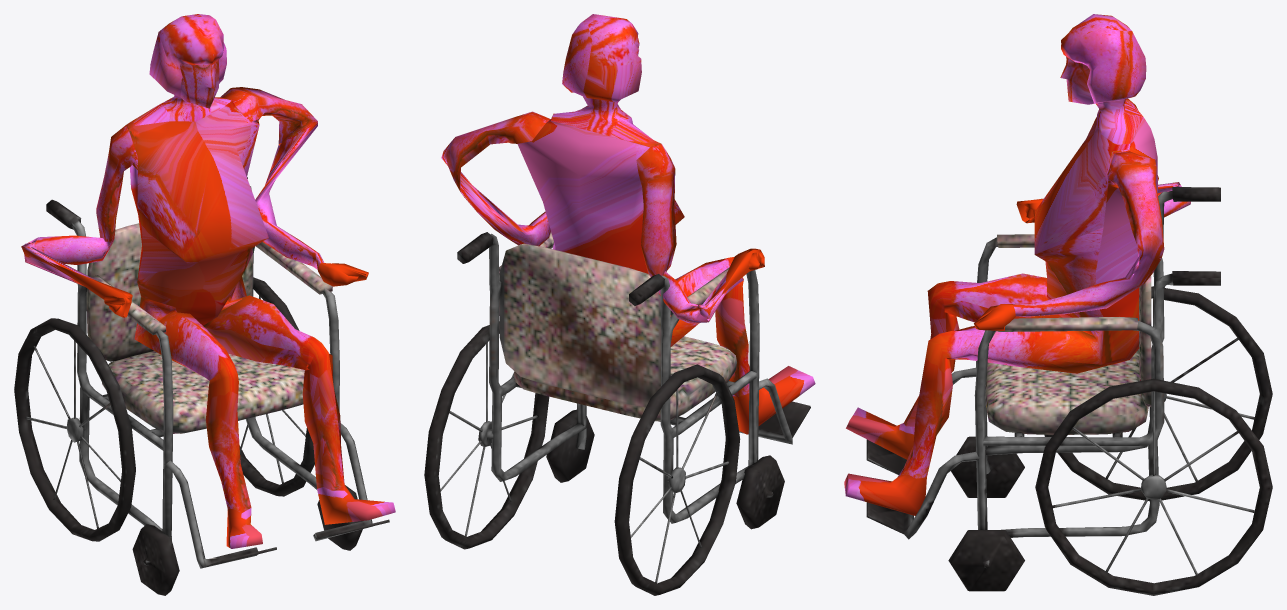
Rendered from Petunia.fbx.
3 views of the same model, side by side, from view 1: azimuth 30°, elevation 25°; view 2: azimuth 150°, elevation 25°; view 3: azimuth 270°, elevation 25° (orthographic). The views are drawn at different scales.
Visible parts, largest first — view 1: wheelchair_Material.007_0; view 2: wheelchair_Material.007_0; view 3: wheelchair_Material.007_0.
Part boxes in pixels (<box>): wheelchair_Material.007_0: <box>14,14,395,595</box>; wheelchair_Material.007_0: <box>424,14,815,595</box>; wheelchair_Material.007_0: <box>844,14,1272,595</box>.
Size of the model in its own units: 335 by 588 by 433.
Materials: 2 (2 with a texture image).
